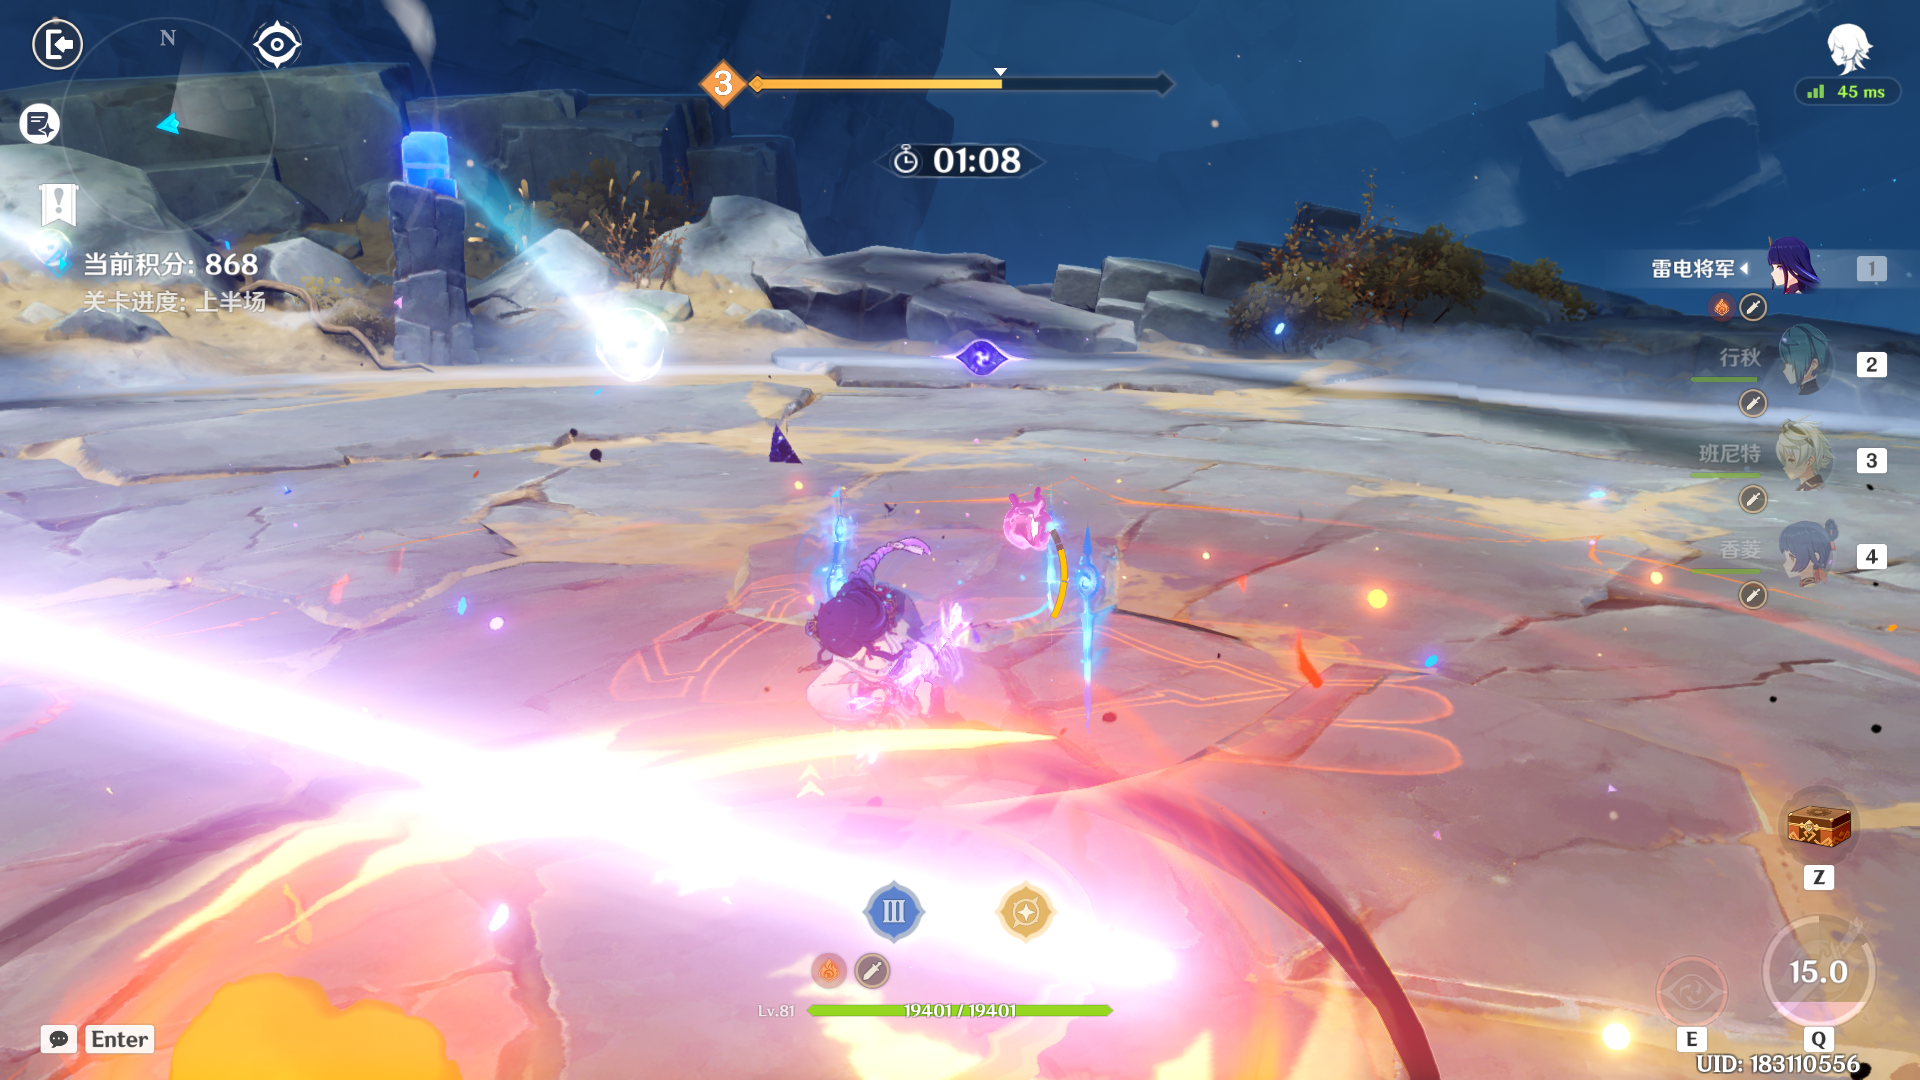character: (731, 509, 1087, 764)
